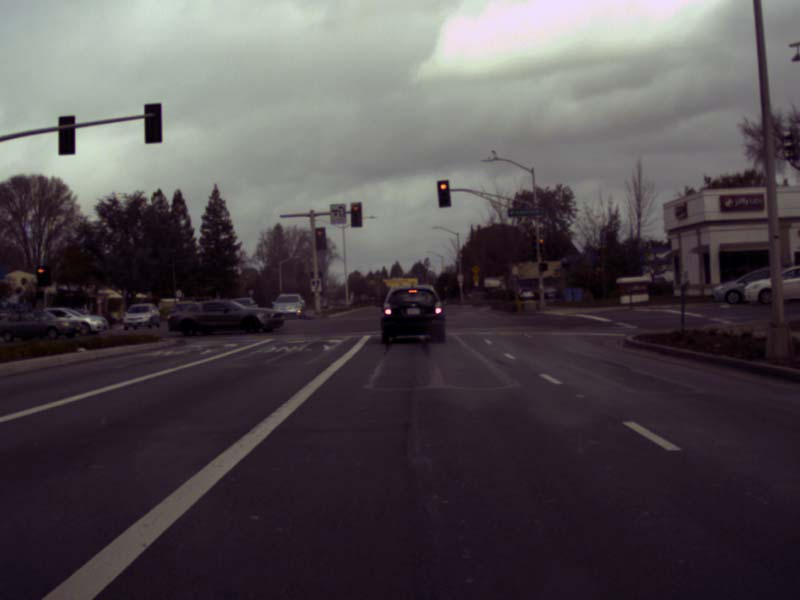Red: (436, 180, 450, 207), (315, 227, 326, 249), (351, 202, 360, 226), (37, 266, 45, 285), (538, 236, 544, 254)
